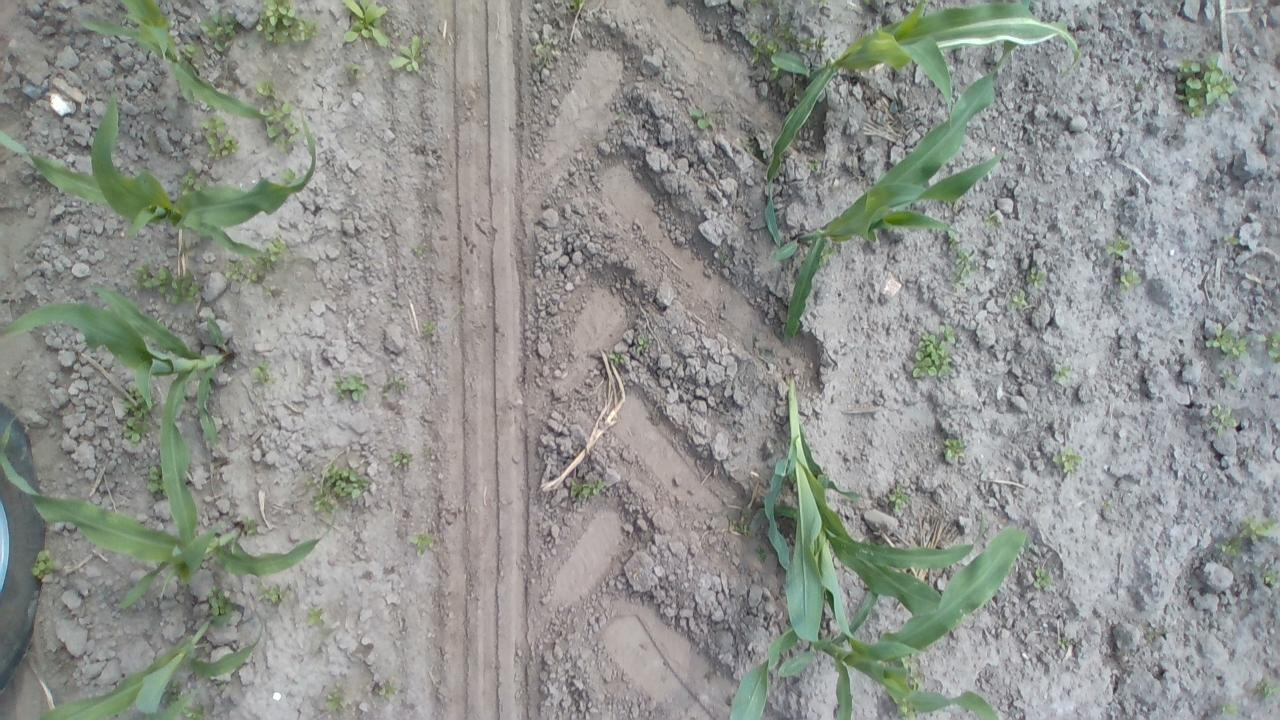Maize: (764, 0, 1082, 248), (770, 42, 1024, 341), (0, 411, 339, 615), (0, 280, 240, 545), (762, 371, 989, 644), (0, 87, 317, 258), (776, 521, 1028, 720), (38, 608, 264, 720), (80, 1, 277, 120), (729, 627, 796, 720)
Weeds: (1174, 49, 1238, 120), (300, 463, 376, 514), (254, 0, 322, 46), (131, 262, 207, 303), (906, 323, 959, 380), (1216, 514, 1277, 558), (119, 384, 160, 447), (222, 258, 278, 302), (341, 0, 391, 48), (260, 100, 300, 153), (196, 7, 238, 57), (385, 32, 434, 73), (1201, 322, 1248, 362), (200, 112, 239, 160), (949, 246, 979, 294), (332, 370, 374, 404), (721, 503, 756, 538), (764, 0, 795, 39), (1051, 443, 1084, 474), (1208, 403, 1238, 437), (532, 36, 560, 72), (568, 478, 610, 501), (378, 370, 410, 400), (250, 358, 280, 388), (406, 530, 438, 558), (688, 106, 722, 132), (207, 585, 236, 615), (752, 332, 779, 364), (30, 548, 55, 582), (1112, 267, 1144, 293), (888, 481, 912, 514), (796, 31, 830, 54), (1257, 330, 1280, 364), (749, 38, 780, 63), (942, 436, 969, 464), (263, 234, 288, 264), (1254, 674, 1279, 704), (324, 680, 345, 712), (1104, 235, 1134, 257), (254, 583, 284, 605), (1144, 624, 1174, 646), (178, 168, 202, 195), (146, 464, 164, 496), (391, 449, 414, 473), (1048, 362, 1072, 384), (254, 77, 278, 99), (378, 676, 401, 698), (304, 608, 326, 629), (742, 136, 762, 158), (1025, 267, 1047, 287), (1033, 567, 1053, 589), (1218, 367, 1238, 389), (182, 704, 208, 720), (1008, 290, 1028, 310), (242, 516, 260, 538), (982, 210, 1004, 227), (946, 228, 966, 246), (345, 60, 363, 80), (1220, 701, 1242, 716), (183, 39, 200, 58), (1263, 569, 1280, 588), (169, 679, 184, 700), (821, 248, 838, 266), (420, 322, 436, 341), (755, 545, 770, 563), (606, 352, 625, 366), (281, 168, 297, 184), (1222, 233, 1240, 246), (766, 66, 780, 82), (1058, 634, 1072, 650), (636, 336, 650, 352), (410, 244, 428, 256), (743, 30, 761, 41), (788, 81, 801, 96), (810, 156, 822, 171), (422, 450, 436, 462), (1134, 76, 1144, 92), (569, 0, 582, 12), (745, 0, 762, 9), (614, 111, 626, 123), (1102, 498, 1114, 509), (719, 252, 729, 262), (864, 0, 872, 5)
